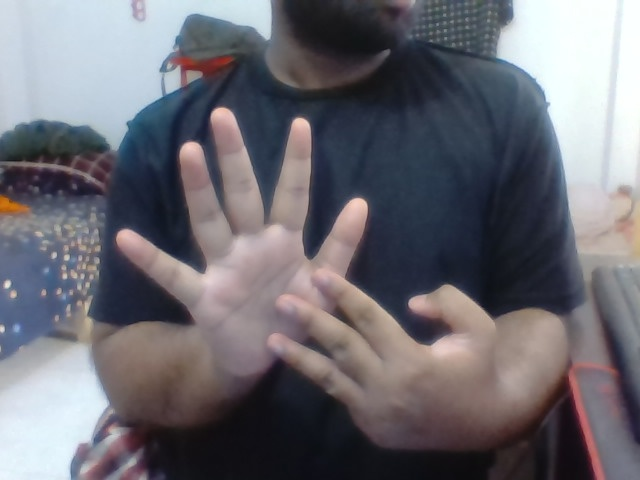M: (100, 98, 505, 462)
